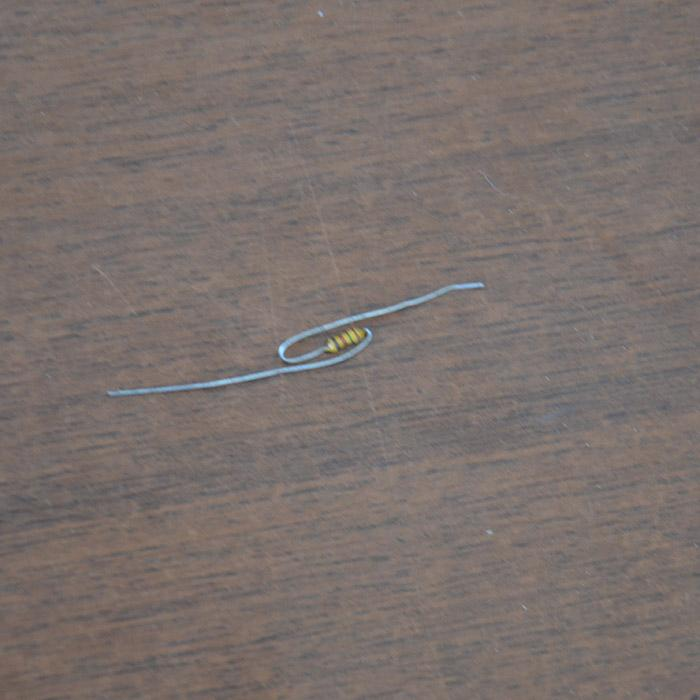resistor: (322, 323, 367, 354)
